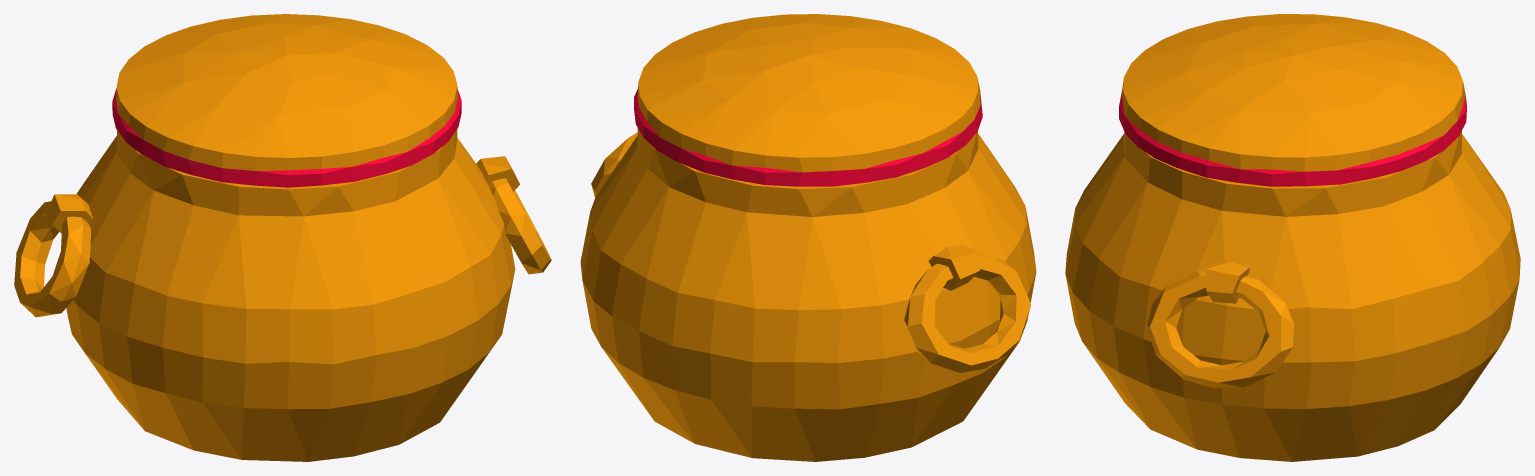
File: Jar_Mid.fbx
The picture shows the model from 3 angles, left to right: view 1: azimuth 30°, elevation 25°; view 2: azimuth 150°, elevation 25°; view 3: azimuth 270°, elevation 25°; orthographic projection.
Parts seen in each view (by area): view 1: Jar_Big, Jar_Big_Lid; view 2: Jar_Big, Jar_Big_Lid; view 3: Jar_Big, Jar_Big_Lid.
Boxes of the visible parts, box(x1,y1,x2,y2) form: Jar_Big: box(14, 129, 551, 461); Jar_Big_Lid: box(112, 14, 461, 187); Jar_Big: box(580, 128, 1036, 461); Jar_Big_Lid: box(634, 14, 982, 186); Jar_Big: box(1065, 131, 1520, 461); Jar_Big_Lid: box(1119, 14, 1466, 186).
Bounding box in the file's own units: 60.39 × 41.94 × 51.76.
